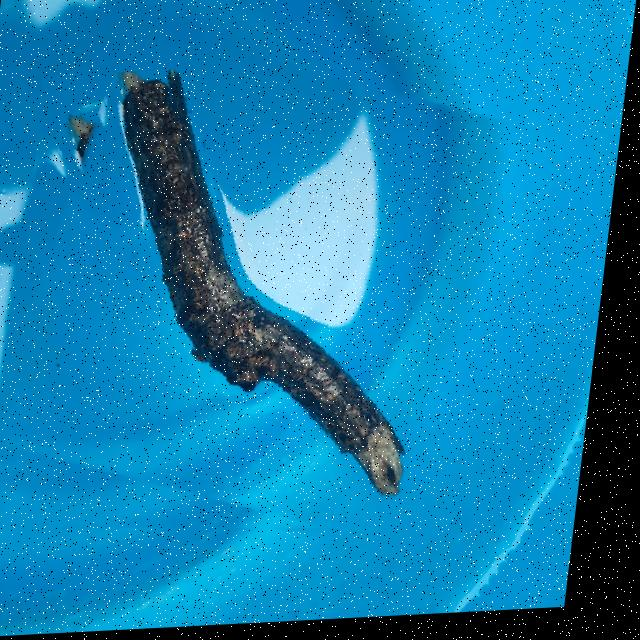wood: (0, 56, 560, 556)
